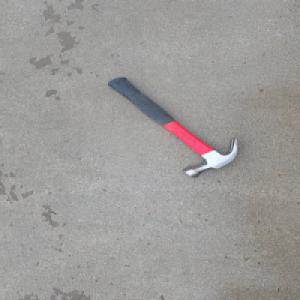Hammer: (106, 76, 242, 178)
